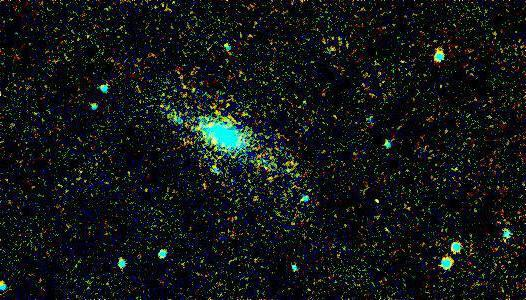star: (318, 31, 348, 61)
